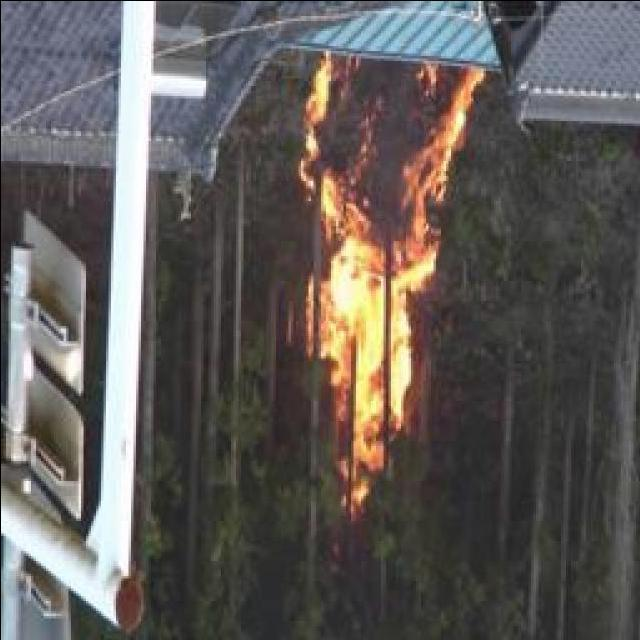Fire: (296, 52, 474, 506)
